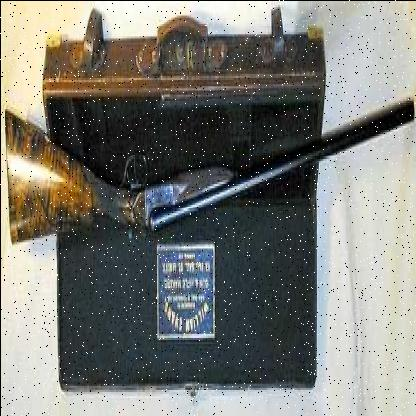rifle: (3, 58, 414, 318)
